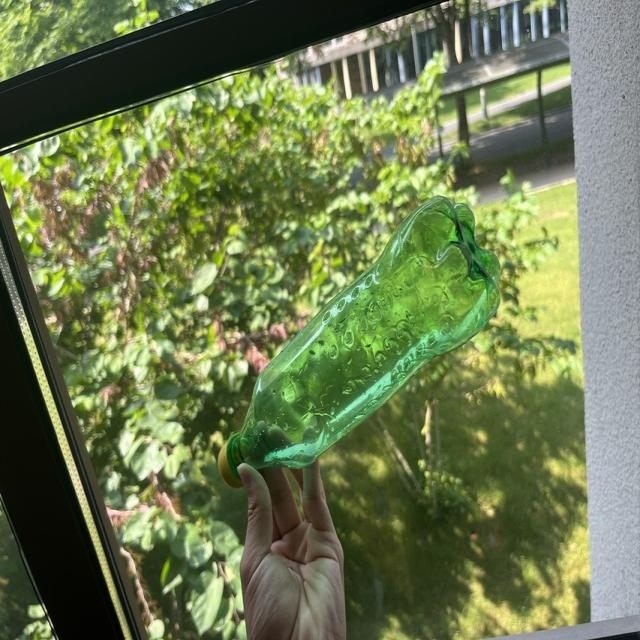empty: (218, 196, 500, 485)
